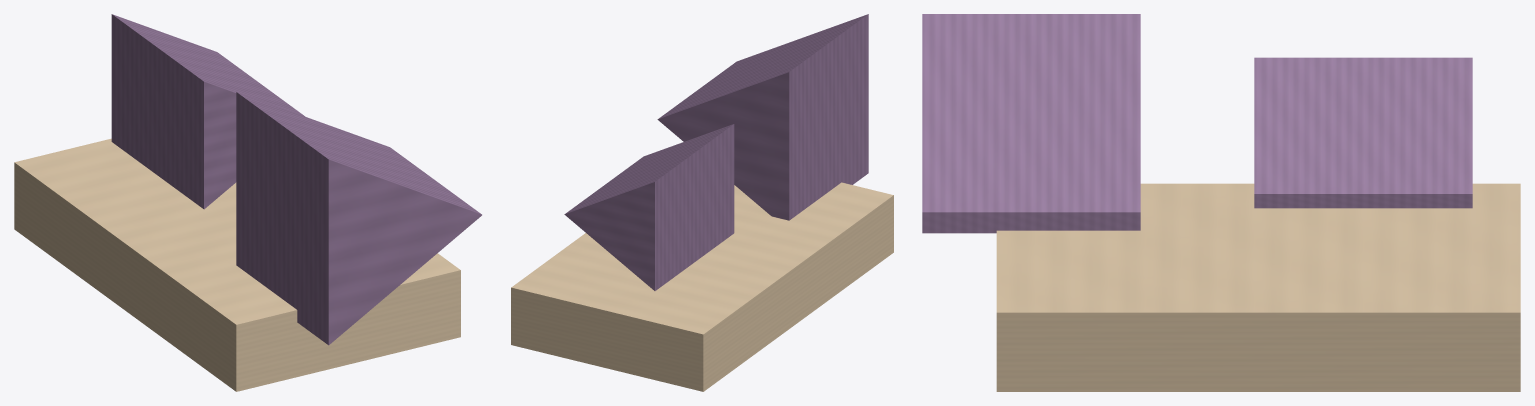
File: atlas100-s081-a05.lod2.glb
The picture shows the model from 3 angles, left to right: view 1: azimuth 30°, elevation 25°; view 2: azimuth 150°, elevation 25°; view 3: azimuth 270°, elevation 25°; orthographic projection. The views are drawn at different scales.
Visible parts, largest first — view 1: atlas100-s081-a05:part-004, atlas100-s081-a05:part-002, atlas100-s081-a05:part-000; view 2: atlas100-s081-a05:part-004, atlas100-s081-a05:part-002, atlas100-s081-a05:part-000; view 3: atlas100-s081-a05:part-004, atlas100-s081-a05:part-002, atlas100-s081-a05:part-000.
Part boxes in pixels (left/top/right/bottom): atlas100-s081-a05:part-004: left=14, top=138, right=460, bottom=391; atlas100-s081-a05:part-002: left=236, top=92, right=481, bottom=345; atlas100-s081-a05:part-000: left=111, top=14, right=304, bottom=209; atlas100-s081-a05:part-004: left=511, top=182, right=893, bottom=391; atlas100-s081-a05:part-002: left=657, top=14, right=868, bottom=220; atlas100-s081-a05:part-000: left=564, top=124, right=734, bottom=290; atlas100-s081-a05:part-004: left=996, top=183, right=1520, bottom=391; atlas100-s081-a05:part-002: left=922, top=14, right=1140, bottom=233; atlas100-s081-a05:part-000: left=1254, top=57, right=1472, bottom=208.
Size of the model in its own units: 0.3822 by 0.3916 by 0.748.
Materials: 2 (2 with a texture image).
